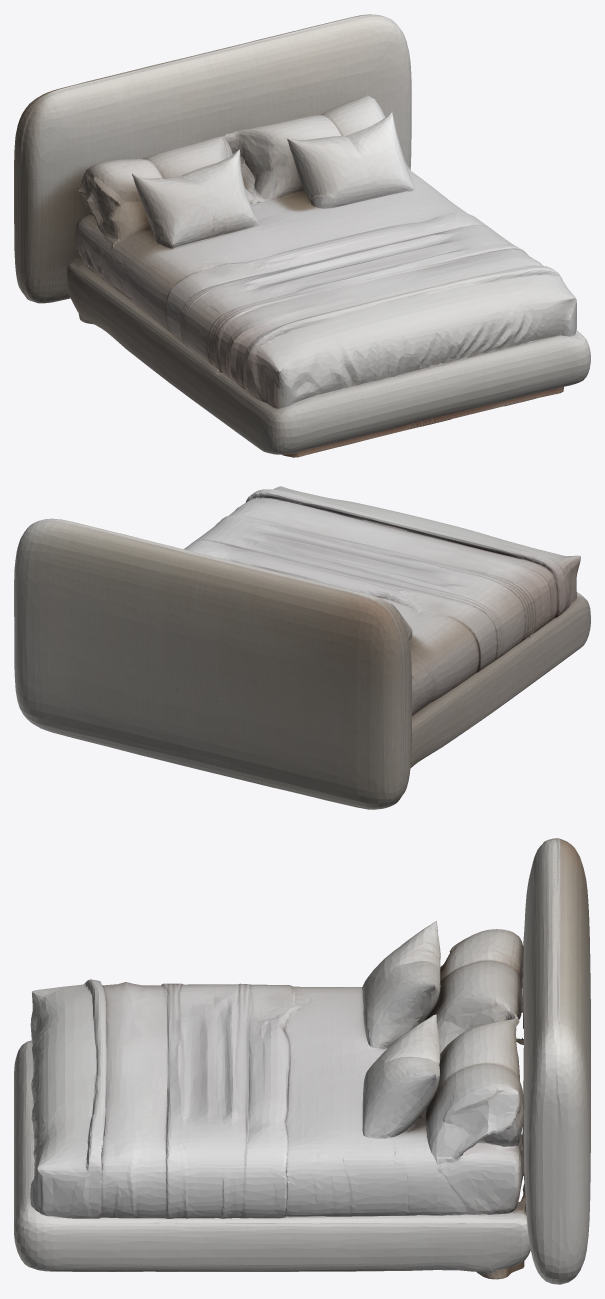
The model's file is CAMA AURA GELLAR MARBLE.glb.
3 renders of one model, top to bottom at view 1: azimuth 30°, elevation 25°; view 2: azimuth 150°, elevation 25°; view 3: azimuth 270°, elevation 25°, orthographic. The views are drawn at different scales.
Visible parts, largest first — view 1: world; view 2: world; view 3: world.
Boxes of the visible parts, x1=… form: world: x1=14, y1=14, x2=590, y2=457; world: x1=14, y1=486, x2=590, y2=809; world: x1=14, y1=838, x2=590, y2=1284.
Bounding box in the file's own units: 2 × 1.05 × 2.15.
Materials: 1 (1 with a texture image).
